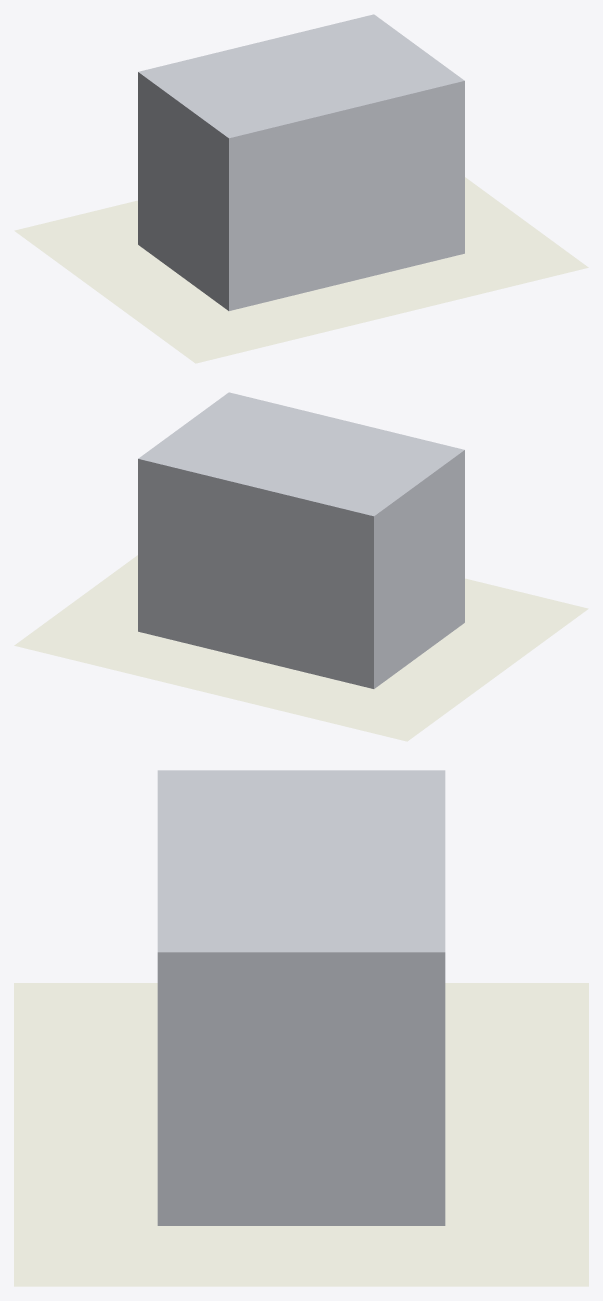
Rendered from example-massing.glb.
3 views of the same model, one above another, from view 1: azimuth 30°, elevation 25°; view 2: azimuth 150°, elevation 25°; view 3: azimuth 270°, elevation 25° (orthographic). The views are drawn at different scales.
Visible parts, largest first — view 1: Proposed building option, Example lot - not a real property; view 2: Proposed building option, Example lot - not a real property; view 3: Proposed building option, Example lot - not a real property.
Boxes of the visible parts, x1=… form: Proposed building option: x1=138, y1=14, x2=464, y2=310; Example lot - not a real property: x1=14, y1=177, x2=588, y2=363; Proposed building option: x1=138, y1=392, x2=464, y2=688; Example lot - not a real property: x1=14, y1=555, x2=587, y2=741; Proposed building option: x1=157, y1=770, x2=445, y2=1225; Example lot - not a real property: x1=14, y1=983, x2=588, y2=1286.
Size of the model in its own units: 30.48 by 12.8 by 24.38.
